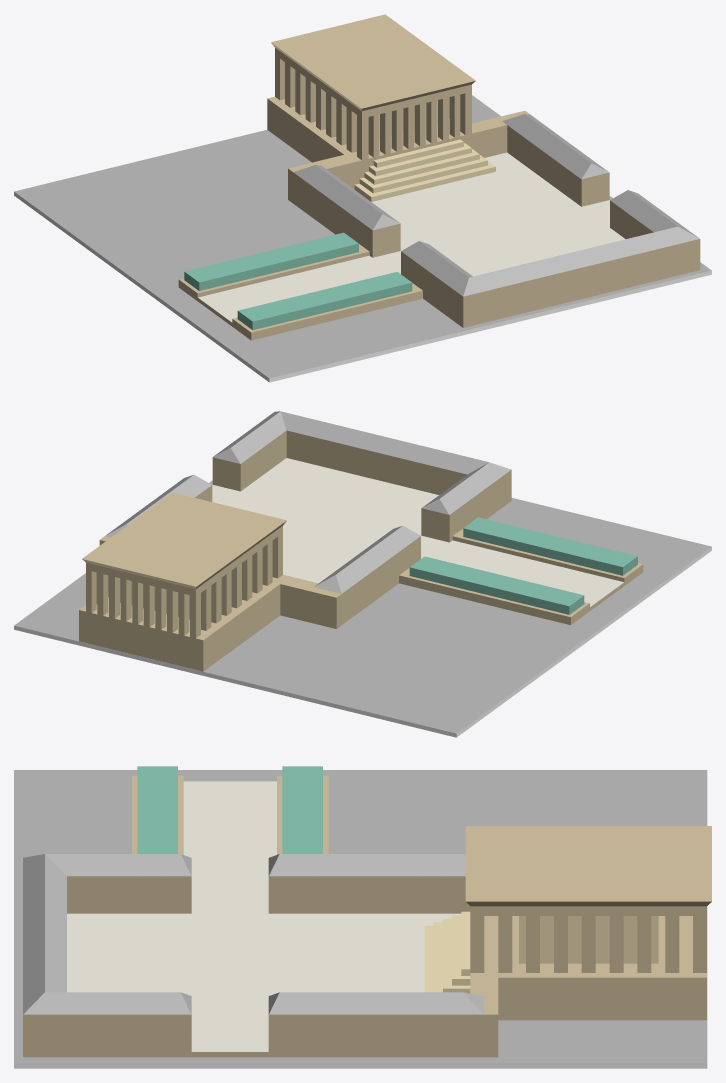
File: anıtkabir.dae
3 renders of one model, top to bottom at view 1: azimuth 30°, elevation 25°; view 2: azimuth 150°, elevation 25°; view 3: azimuth 270°, elevation 25°, orthographic. The views are drawn at different scales.
Parts seen in each view (by area): view 1: group_0 (×13); view 2: group_0 (×12); view 3: group_0 (×15).
Part boxes in pixels (x1,y1,x2,y2): group_0 (×13): (14,14,711,382); group_0 (×12): (14,411,711,737); group_0 (×15): (14,766,711,1068).
Bounding box in the file's own units: 402 × 404 × 77.18.
Materials: 7 (6 with a texture image).
